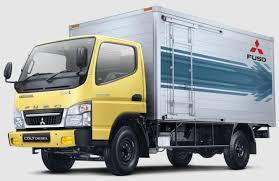truck: (4, 32, 160, 180)
